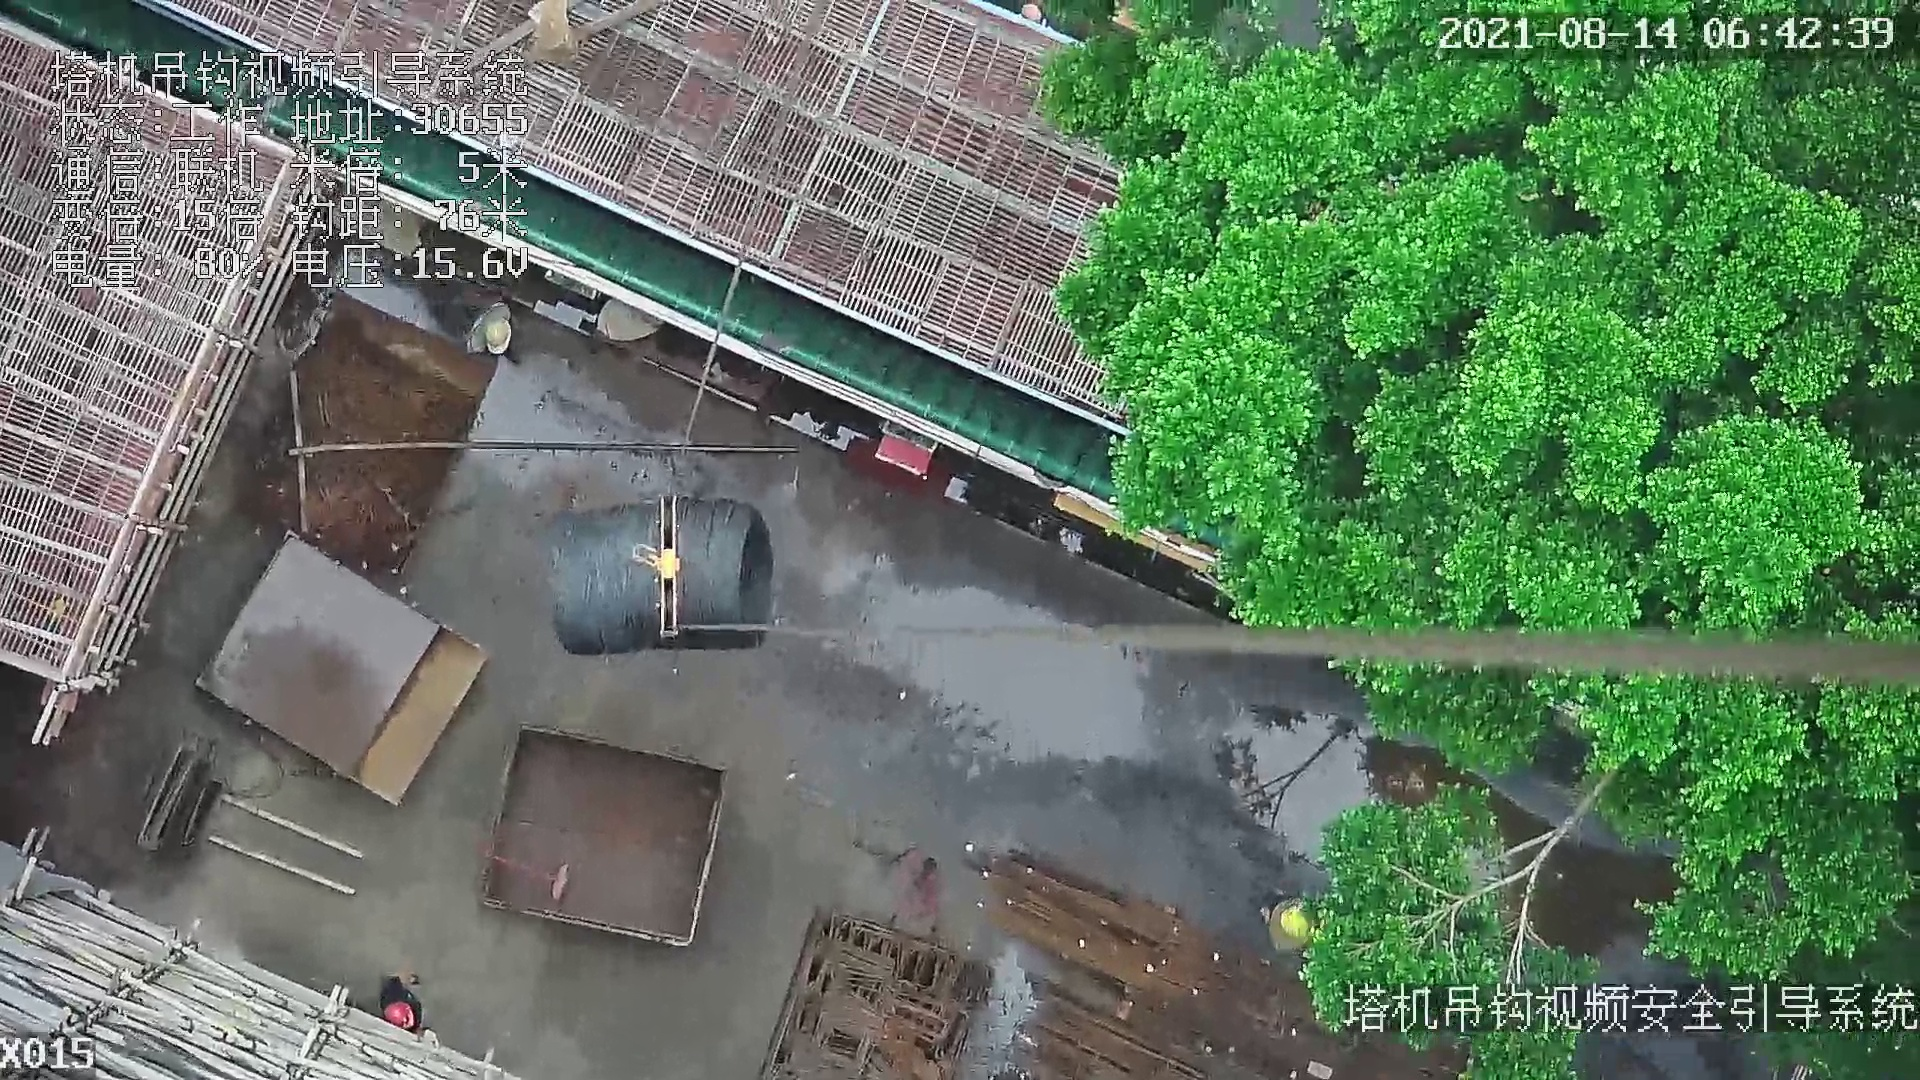helmet: (1281, 904, 1311, 942), (485, 319, 510, 353), (385, 1000, 410, 1028)
hook: (631, 494, 686, 644)
person: (459, 291, 523, 371), (1256, 882, 1321, 953), (381, 969, 428, 1027)
